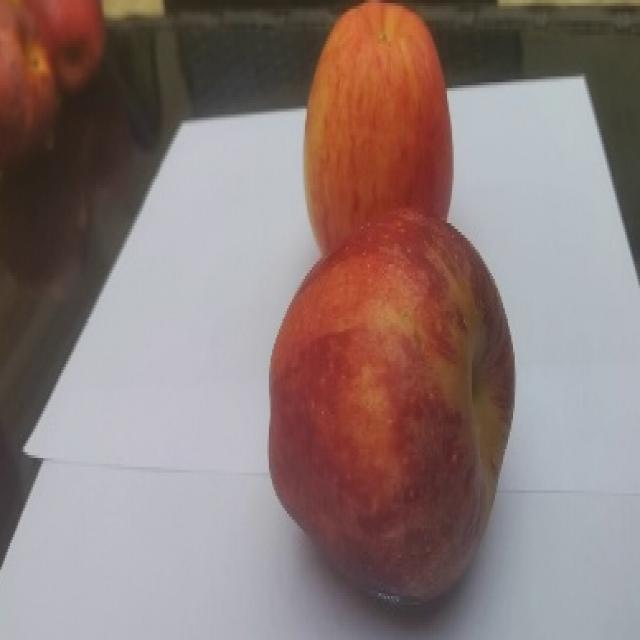Apple: (261, 208, 519, 606), (295, 0, 460, 263), (0, 0, 62, 142), (29, 0, 112, 83)
